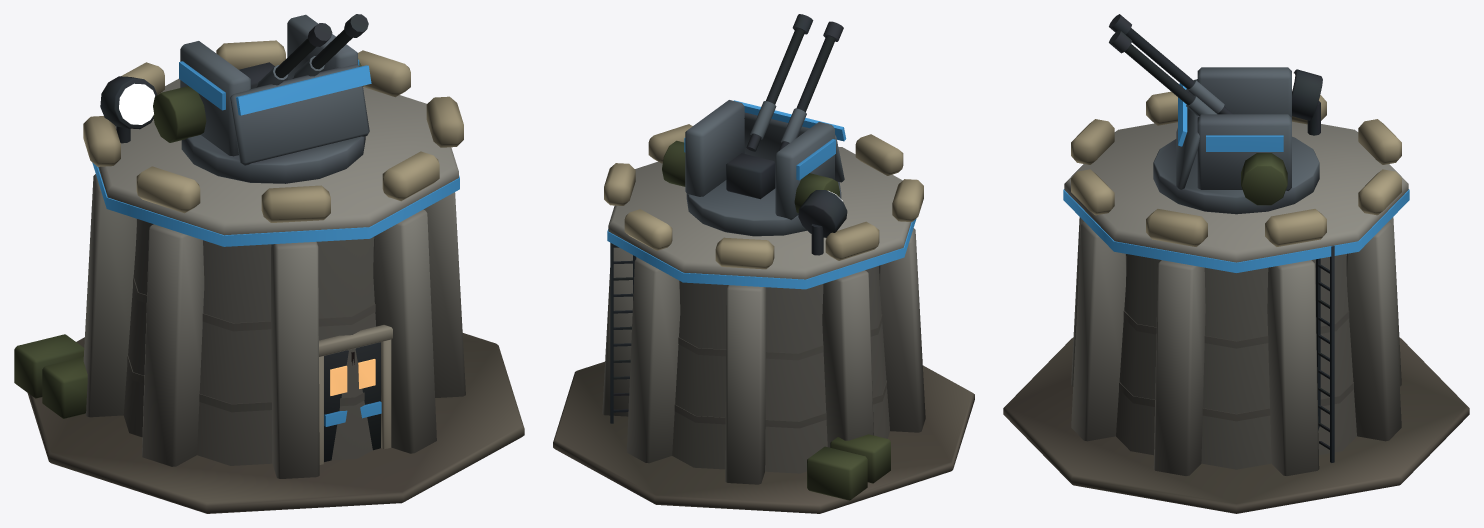
Rendered from flak.glb.
3 views of the same model, side by side, from view 1: azimuth 30°, elevation 25°; view 2: azimuth 150°, elevation 25°; view 3: azimuth 270°, elevation 25° (orthographic). The views are drawn at different scales.
Parts seen in each view (by area): view 1: flak_root_matte, flak_turret_metal, flak_root_trim, flak_turret_trim, flak_barrel_metal, flak_turret_matte, flak_root_metal, flak_root_lamp, flak_root_glass; view 2: flak_root_matte, flak_turret_metal, flak_barrel_metal, flak_root_metal, flak_root_trim, flak_turret_matte, flak_turret_trim; view 3: flak_root_matte, flak_turret_metal, flak_root_trim, flak_root_metal, flak_barrel_metal, flak_turret_matte, flak_turret_trim.
Boxes of the visible parts, left/top/right/bottom form: flak_root_matte: left=14, top=40, right=524, bottom=513; flak_turret_metal: left=180, top=14, right=369, bottom=183; flak_root_trim: left=92, top=162, right=459, bottom=426; flak_turret_trim: left=179, top=59, right=371, bottom=115; flak_barrel_metal: left=256, top=14, right=368, bottom=87; flak_turret_matte: left=153, top=59, right=363, bottom=142; flak_root_metal: left=100, top=76, right=157, bottom=143; flak_root_lamp: left=119, top=83, right=154, bottom=124; flak_root_glass: left=330, top=359, right=375, bottom=395; flak_root_matte: left=553, top=124, right=974, bottom=513; flak_turret_metal: left=685, top=100, right=844, bottom=236; flak_barrel_metal: left=746, top=14, right=843, bottom=151; flak_root_metal: left=610, top=190, right=847, bottom=423; flak_root_trim: left=607, top=218, right=916, bottom=289; flak_turret_matte: left=662, top=140, right=839, bottom=213; flak_turret_trim: left=684, top=100, right=846, bottom=180; flak_root_matte: left=1003, top=91, right=1469, bottom=513; flak_turret_metal: left=1153, top=67, right=1319, bottom=214; flak_root_trim: left=1063, top=189, right=1409, bottom=272; flak_root_metal: left=1292, top=69, right=1334, bottom=462; flak_barrel_metal: left=1109, top=14, right=1232, bottom=115; flak_turret_matte: left=1241, top=153, right=1287, bottom=205; flak_turret_trim: left=1178, top=83, right=1283, bottom=151.
Bounding box in the file's own units: 8.4 × 7.85 × 8.4.
